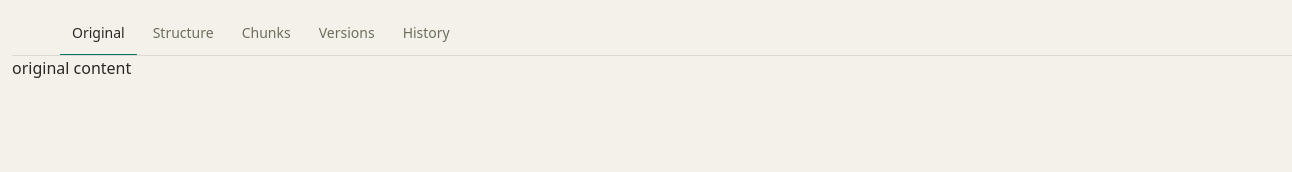
Test: selects on click
Step 1. Click the tab "Versions" → (347, 34), box [307, 12, 387, 56]
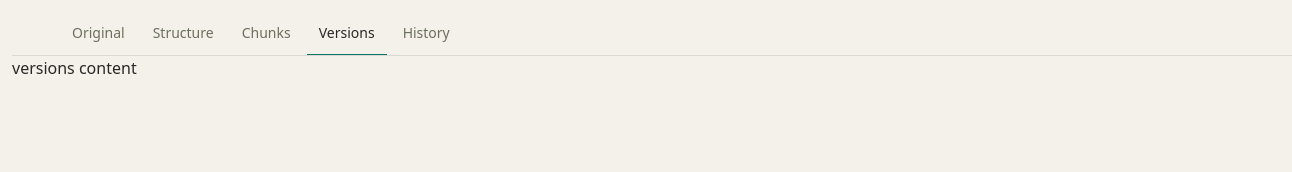
Expected: the text "versions content" is shown, [12, 57, 137, 79]
